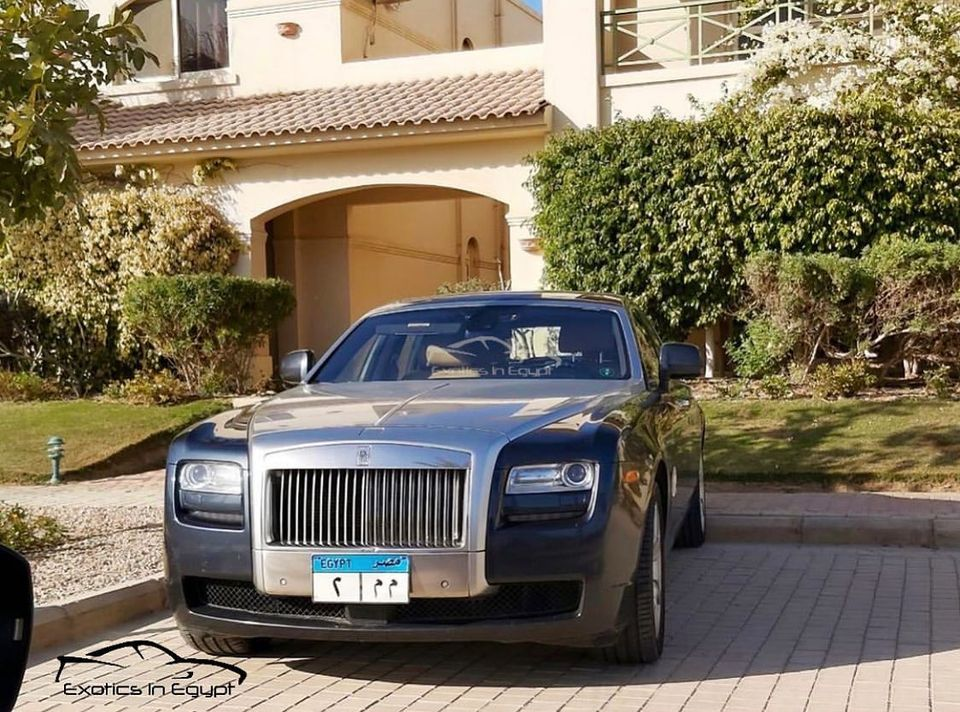carpl: (312, 559, 408, 603)
